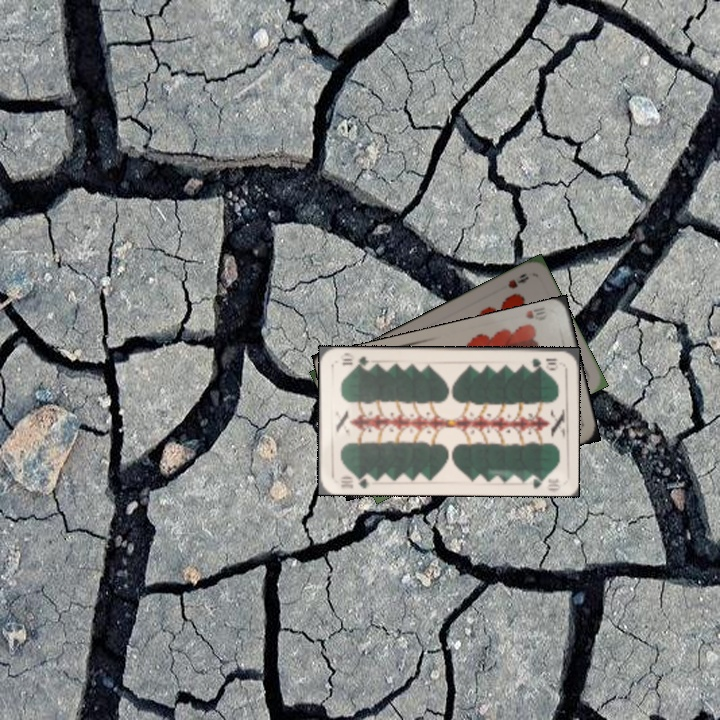G10: (337, 471, 374, 490), (528, 354, 560, 370)
H10: (522, 307, 551, 323)
H9: (504, 269, 531, 291)
